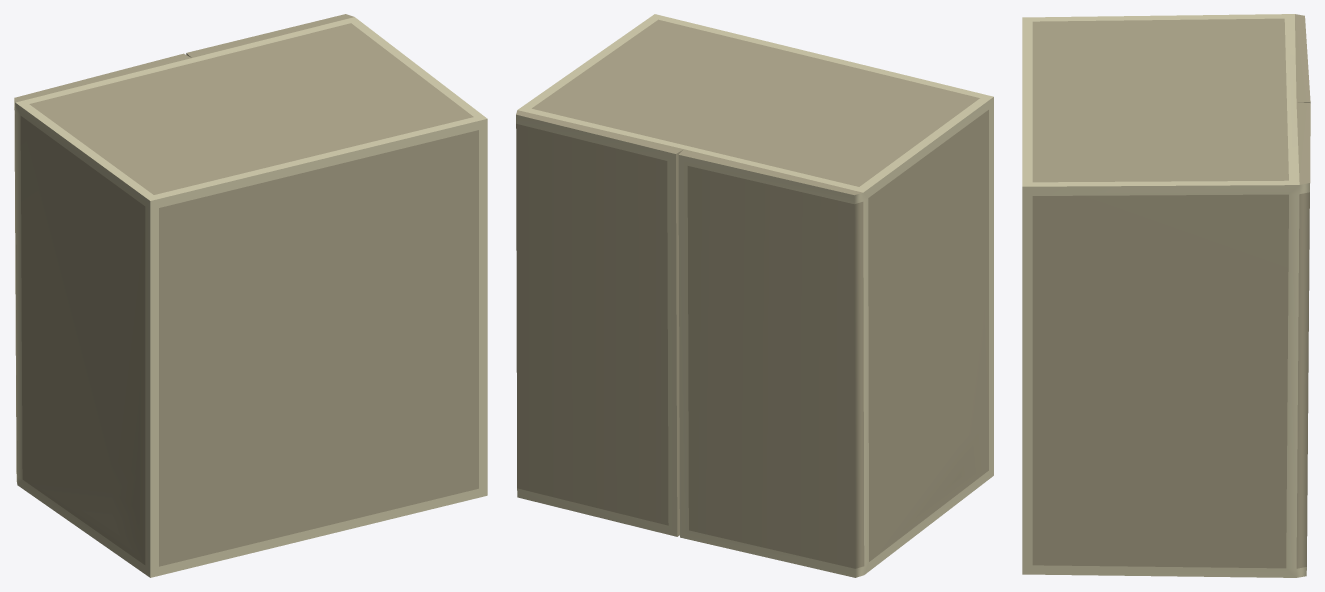
Rendered from BoxI.fbx.
The picture shows the model from 3 angles, left to right: view 1: azimuth 30°, elevation 25°; view 2: azimuth 150°, elevation 25°; view 3: azimuth 270°, elevation 25°; orthographic projection. The views are drawn at different scales.
Visible parts, largest first — view 1: BoxI; view 2: BoxI; view 3: BoxI.
Boxes of the visible parts, <box> form: BoxI: <box>14,14,487,577</box>; BoxI: <box>516,14,993,577</box>; BoxI: <box>1022,14,1310,577</box>.
Size of the model in its own units: 118 by 126 by 83.6.
